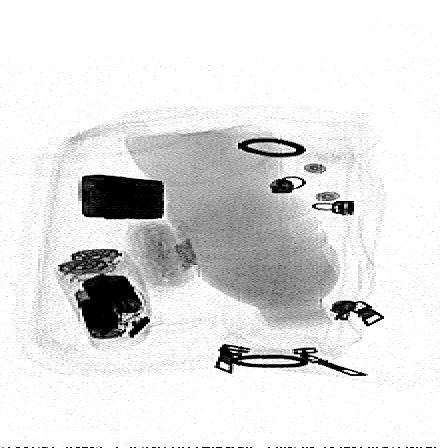Lighter: (81, 173, 167, 220)
